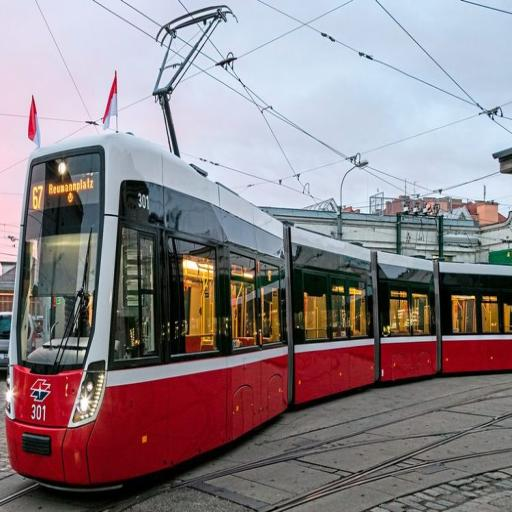Flexity: (7, 126, 512, 494)
